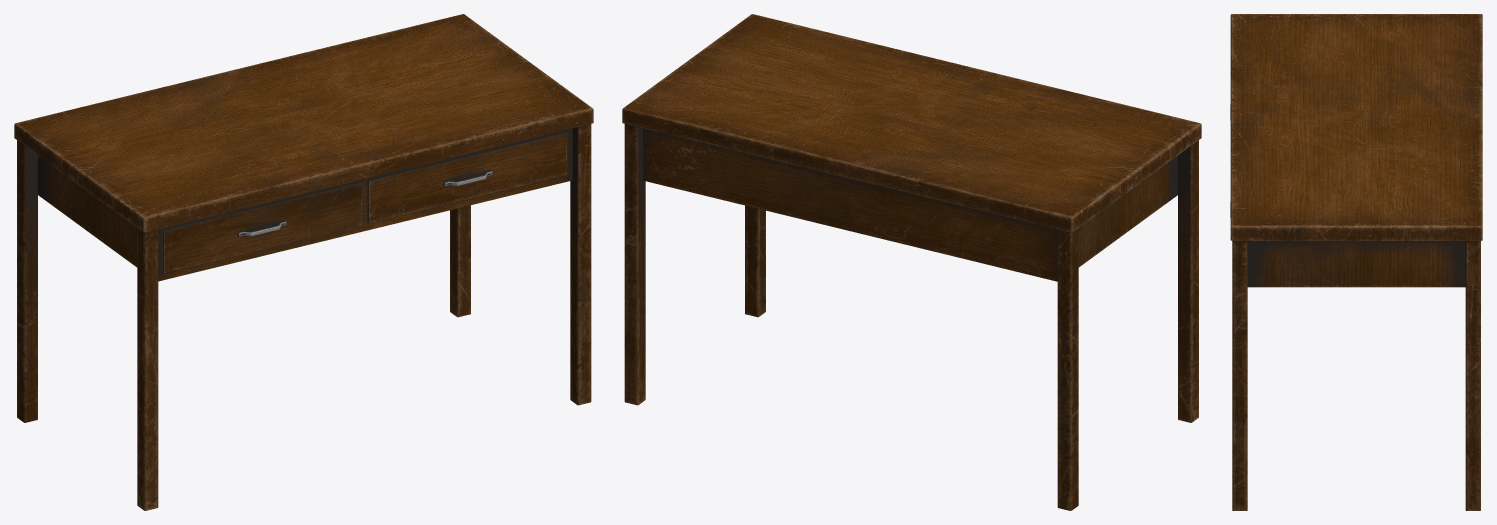
Rendered from desk1.obj.
3 renders of one model, left to right at view 1: azimuth 30°, elevation 25°; view 2: azimuth 150°, elevation 25°; view 3: azimuth 270°, elevation 25°, orthographic. The views are drawn at different scales.
Visible parts, largest first — view 1: desk1; view 2: desk1; view 3: desk1.
Boxes of the visible parts, bbox=[...] form: desk1: bbox=[14, 14, 593, 510]; desk1: bbox=[622, 14, 1201, 510]; desk1: bbox=[1230, 14, 1482, 510].
Bounding box in the file's own units: 1.5 × 0.936 × 0.7512.
1 material, 1 textured.
